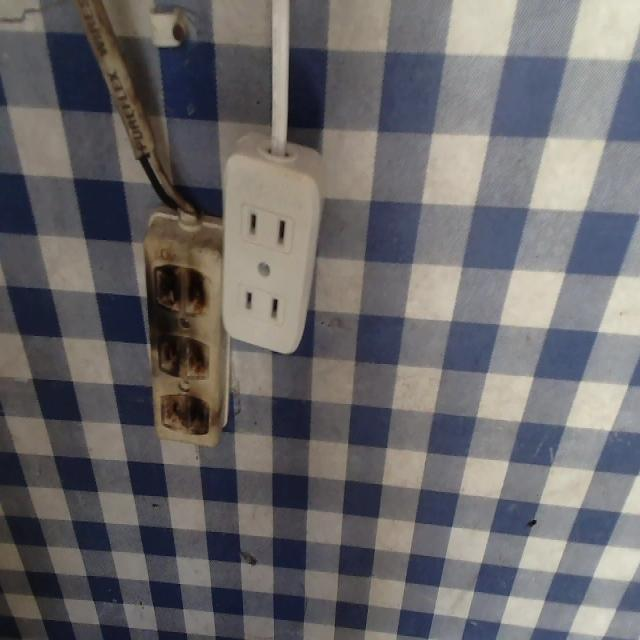-: (147, 250, 213, 322), (146, 326, 214, 382), (156, 385, 214, 436)
